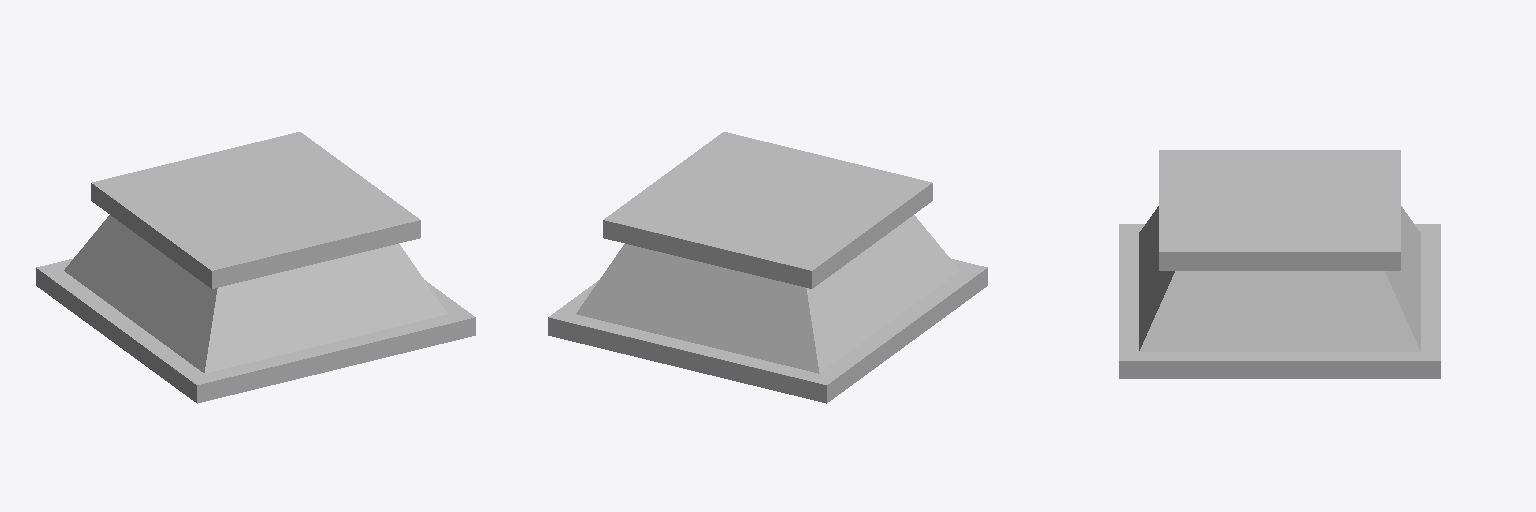
File: slab.obj
The picture shows the model from 3 angles: view 1: azimuth 30°, elevation 25°; view 2: azimuth 150°, elevation 25°; view 3: azimuth 270°, elevation 25°; orthographic projection.
Visible parts, largest first — view 1: Object4, Object3, Object2; view 2: Object4, Object3, Object2; view 3: Object4, Object3, Object2.
Boxes of the visible parts, box(x1,y1,x2,y2) form: Object4: box(91, 132, 420, 288); Object3: box(64, 215, 447, 373); Object2: box(36, 258, 475, 403); Object4: box(603, 132, 932, 288); Object3: box(576, 215, 959, 373); Object2: box(548, 258, 987, 403); Object4: box(1159, 150, 1400, 270); Object3: box(1139, 206, 1420, 351); Object2: box(1119, 224, 1440, 378).
Size of the model in its own units: 24 by 9 by 24.